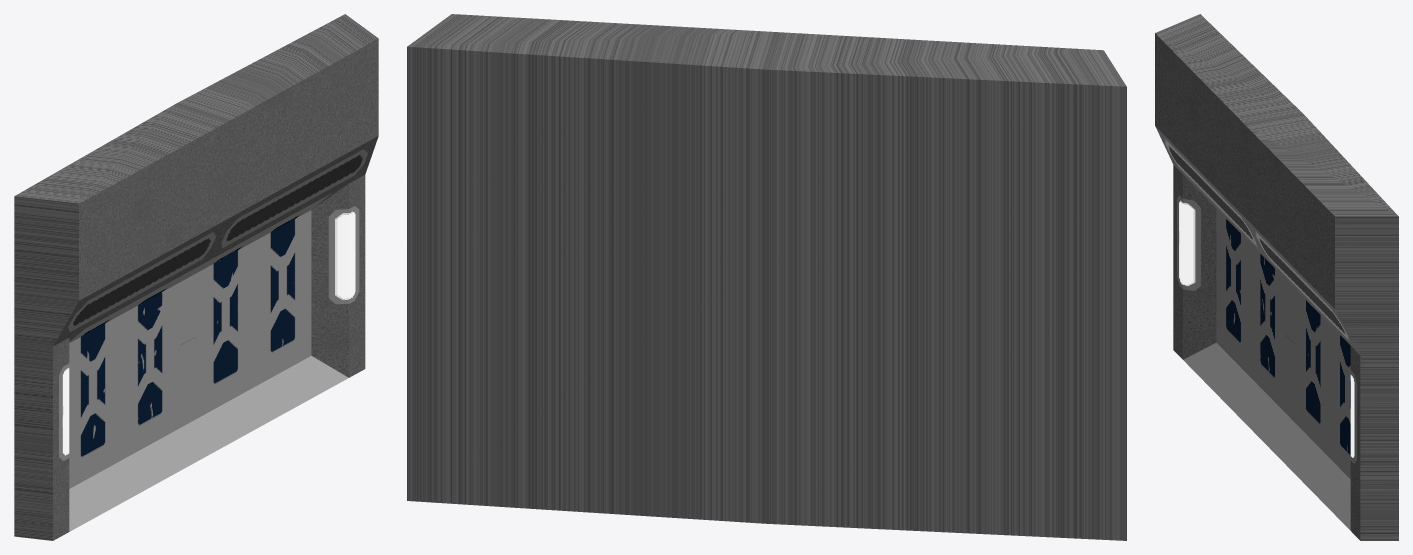
The model's file is Arena_WallB.fbx.
The picture shows the model from 3 angles, left to right: view 1: azimuth 30°, elevation 25°; view 2: azimuth 150°, elevation 25°; view 3: azimuth 270°, elevation 25°; orthographic projection. The views are drawn at different scales.
Parts seen in each view (by area): view 1: WallB_Low; view 2: WallB_Low; view 3: WallB_Low.
Boxes of the visible parts, box(x1,y1,x2,y2) form: WallB_Low: box(14, 14, 378, 540); WallB_Low: box(407, 14, 1126, 540); WallB_Low: box(1155, 14, 1398, 540).
Size of the model in its own units: 18.74 by 14 by 9.53.
